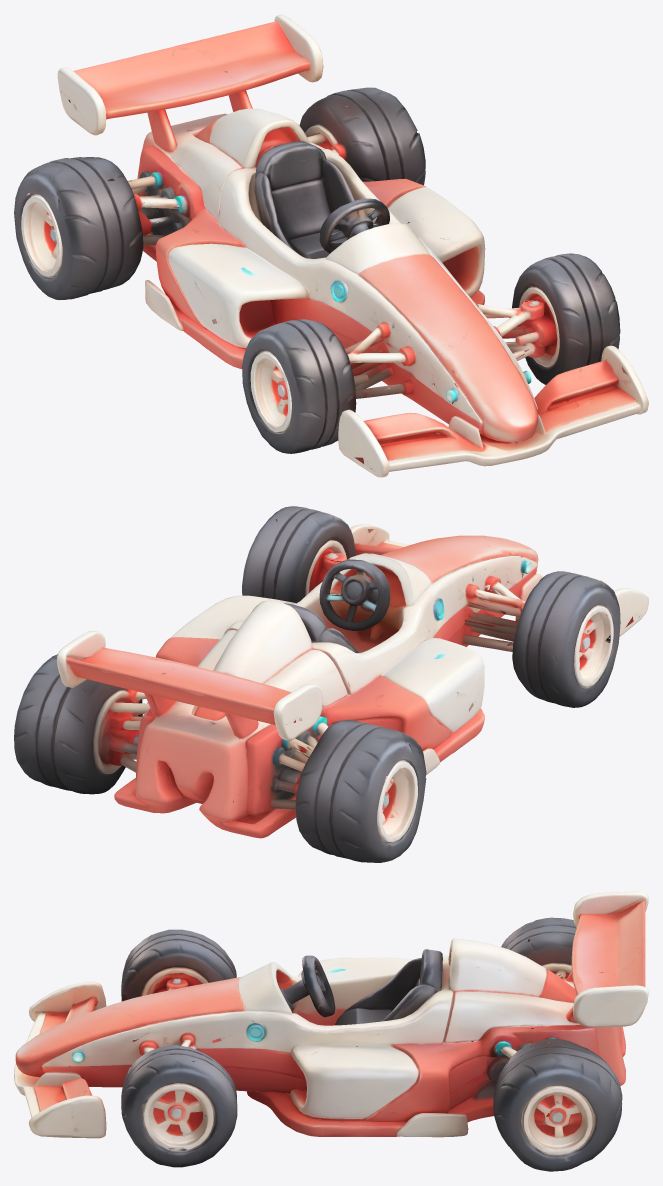
Rendered from comet-desktop.glb.
3 views of the same model, one above another, from view 1: azimuth 30°, elevation 25°; view 2: azimuth 150°, elevation 25°; view 3: azimuth 270°, elevation 25° (orthographic). The views are drawn at different scales.
Parts seen in each view (by area): view 1: model; view 2: model; view 3: model.
Boxes of the visible parts, x1=… form: model: x1=14, y1=14, x2=648, y2=477; model: x1=14, y1=506, x2=648, y2=862; model: x1=14, y1=891, x2=648, y2=1171.
Size of the model in its own units: 1.11 by 0.5349 by 1.9.
1 material, 1 textured.
